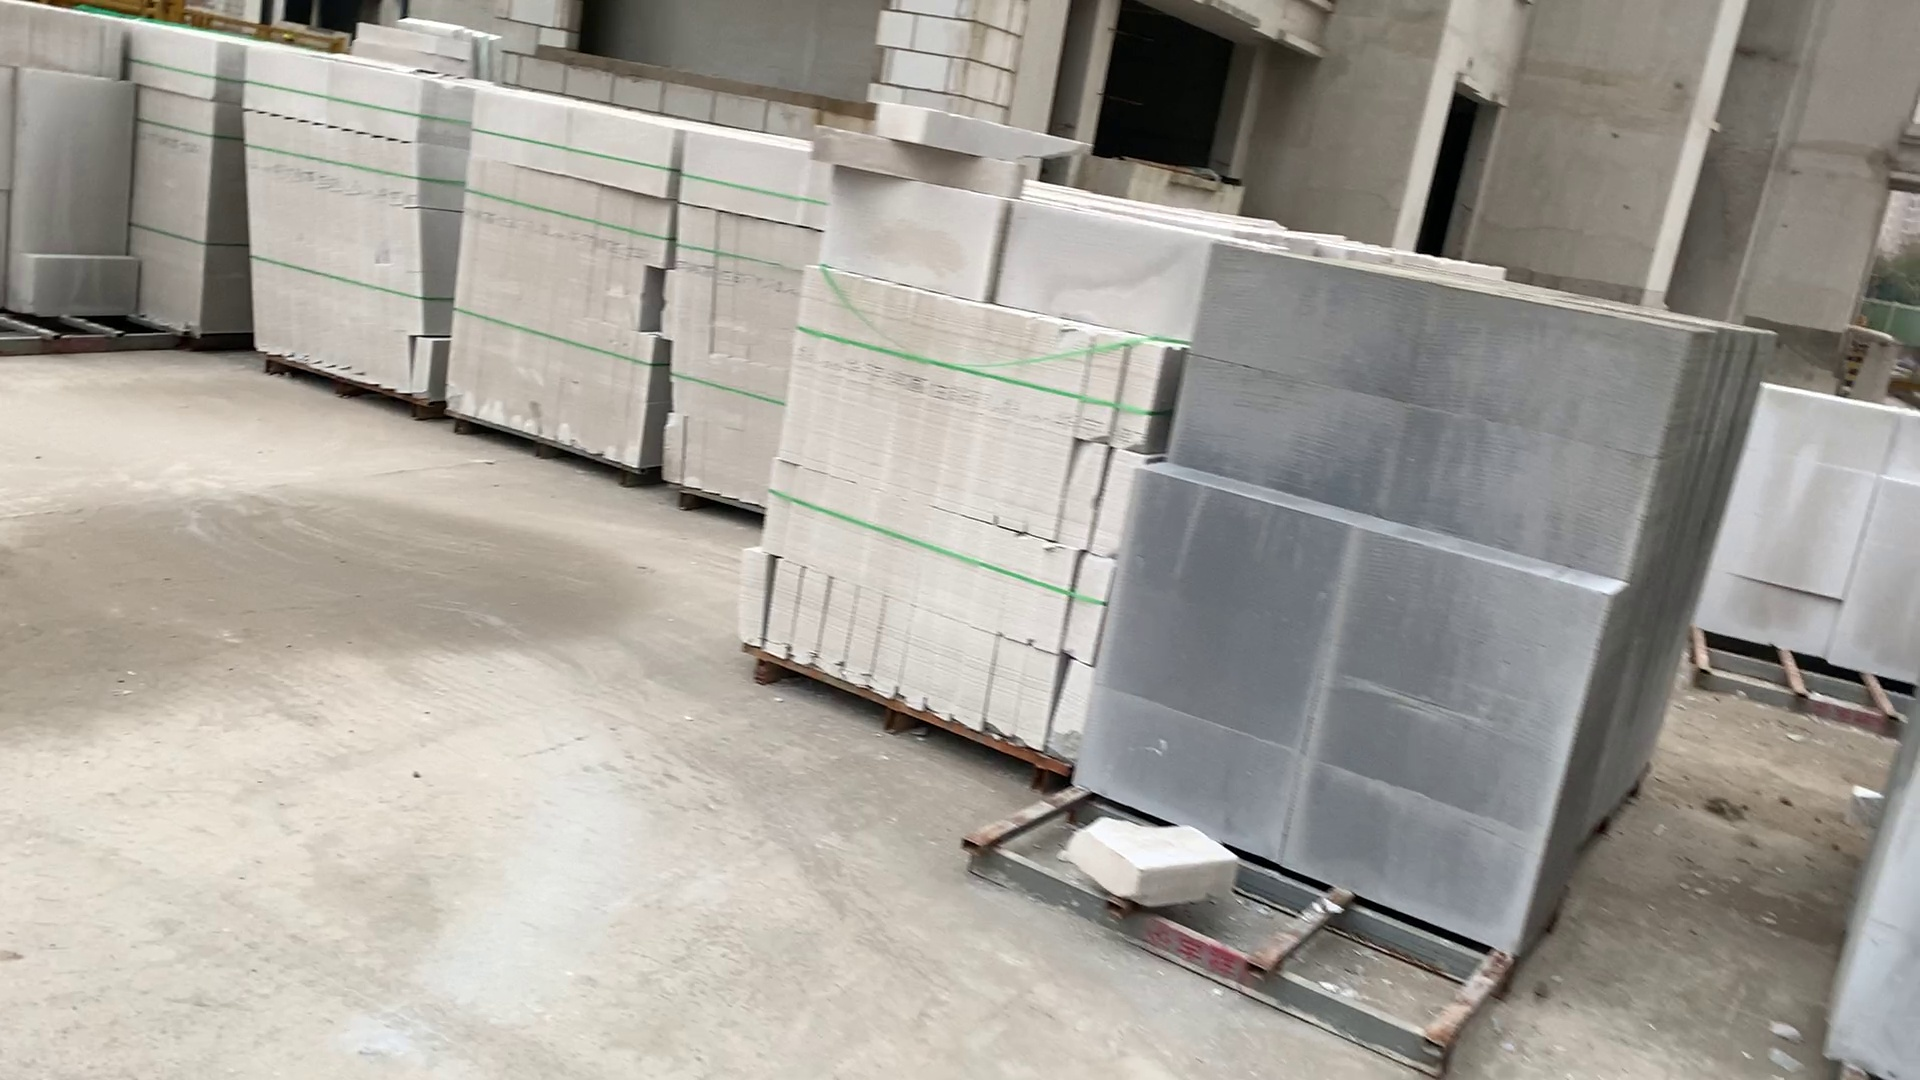brickwork: (1102, 266, 1778, 942), (770, 167, 1100, 742), (452, 91, 659, 462), (4, 3, 235, 334), (1689, 367, 1915, 698), (237, 47, 442, 398), (661, 131, 796, 504)
